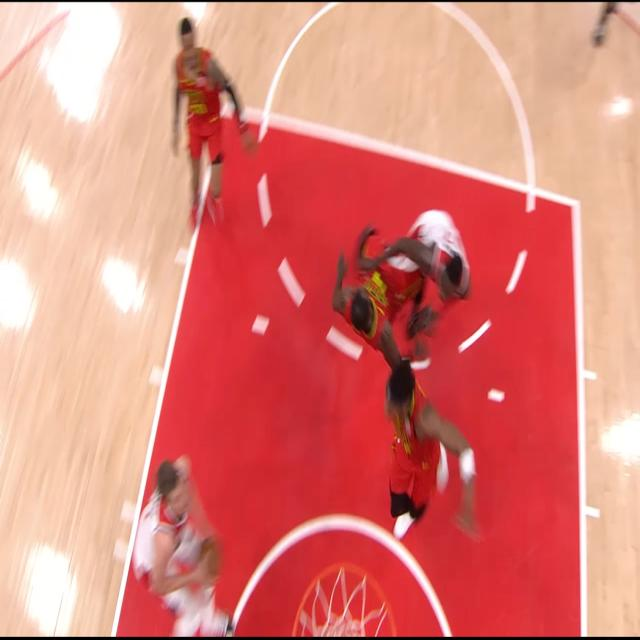Foul: (330, 197, 471, 365)
